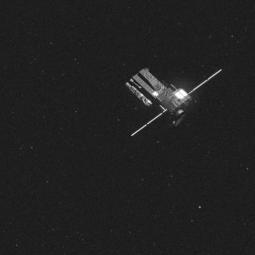soho: (109, 67, 218, 140)
